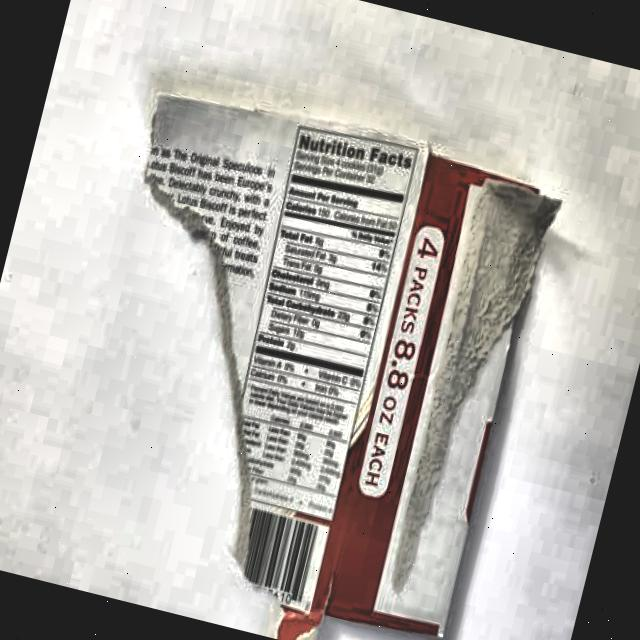paper: (40, 71, 573, 640)
